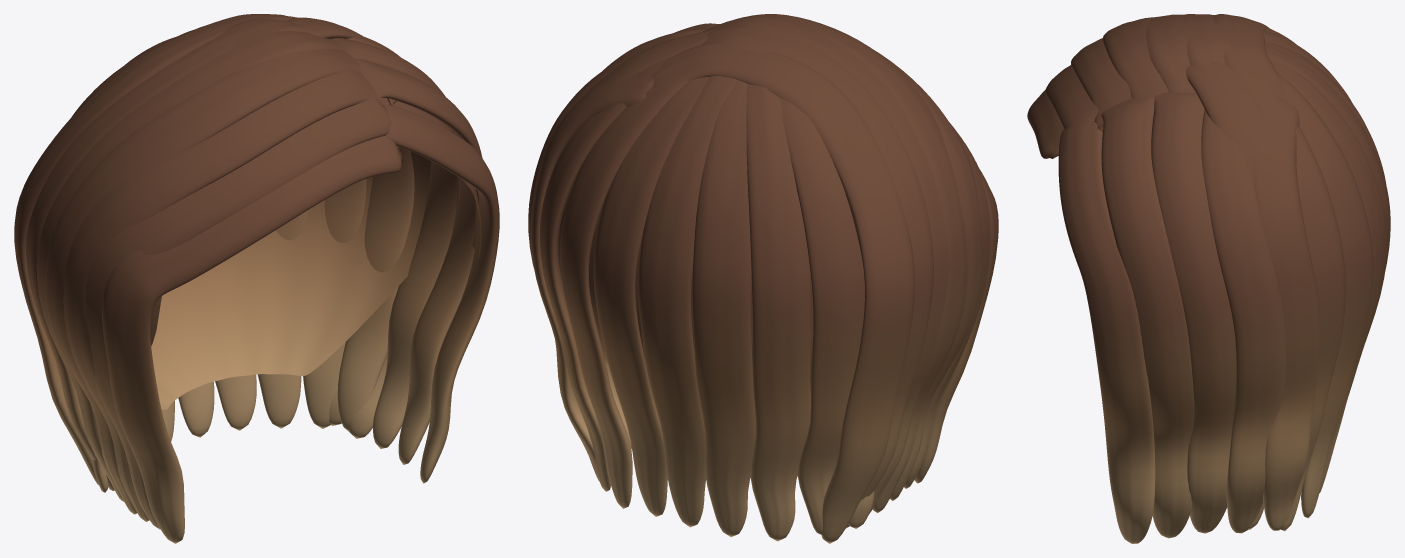
Rendered from Feminine-side-sweep-pashmina261-hair-ombre.glb.
3 renders of one model, left to right at view 1: azimuth 30°, elevation 25°; view 2: azimuth 150°, elevation 25°; view 3: azimuth 270°, elevation 25°, orthographic. The views are drawn at different scales.
Visible parts, largest first — view 1: 226 hair / Hair / sculpted 0.002, 226 hair / Hair / sculpted 1.004, 226 hair / Hair / sculpted 2.002, 226 hair / Hair / sculpted 1.003; view 2: 226 hair / Hair / sculpted 0.002, 226 hair / Hair / sculpted 2.002, 226 hair / Hair / sculpted 1.004, 226 hair / Hair / sculpted 1.003; view 3: 226 hair / Hair / sculpted 1.004, 226 hair / Hair / sculpted 2.002, 226 hair / Hair / sculpted 0.002.
Part boxes in pixels (x1,y1,x2,y2): 226 hair / Hair / sculpted 0.002: [14, 14, 457, 543]; 226 hair / Hair / sculpted 1.004: [36, 17, 499, 529]; 226 hair / Hair / sculpted 2.002: [26, 17, 482, 521]; 226 hair / Hair / sculpted 1.003: [150, 101, 481, 409]; 226 hair / Hair / sculpted 0.002: [560, 14, 998, 543]; 226 hair / Hair / sculpted 2.002: [530, 23, 983, 534]; 226 hair / Hair / sculpted 1.004: [528, 16, 990, 541]; 226 hair / Hair / sculpted 1.003: [558, 185, 813, 389]; 226 hair / Hair / sculpted 1.004: [1045, 14, 1387, 543]; 226 hair / Hair / sculpted 2.002: [1071, 14, 1390, 538]; 226 hair / Hair / sculpted 0.002: [1027, 14, 1386, 533].
Bounding box in the file's own units: 1.01 × 1.09 × 0.8006.
